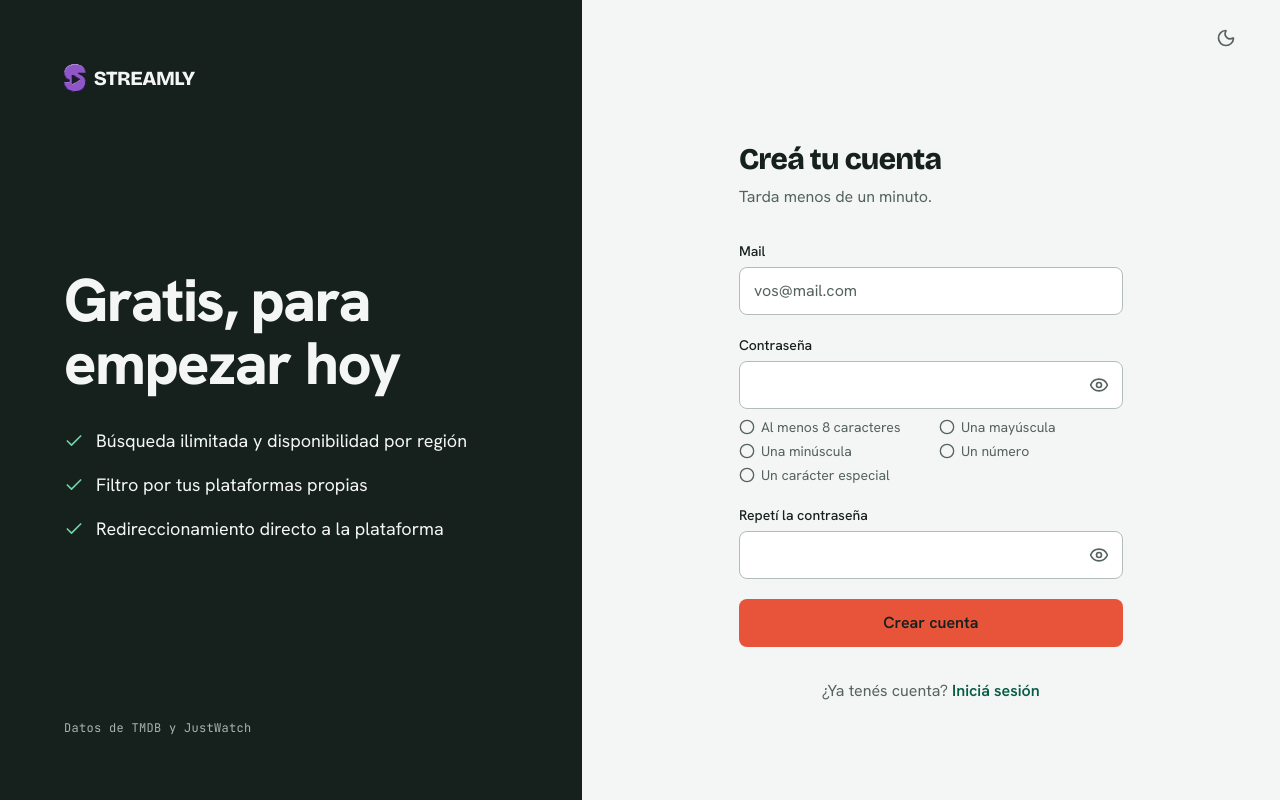
Test case: Registro (E4HU2) › muestra el error de la API si el mail ya está registrado
In the field labelled "Mail": [931, 291] box left=739, top=267, right=1123, bottom=315, type "ana@mail.com"
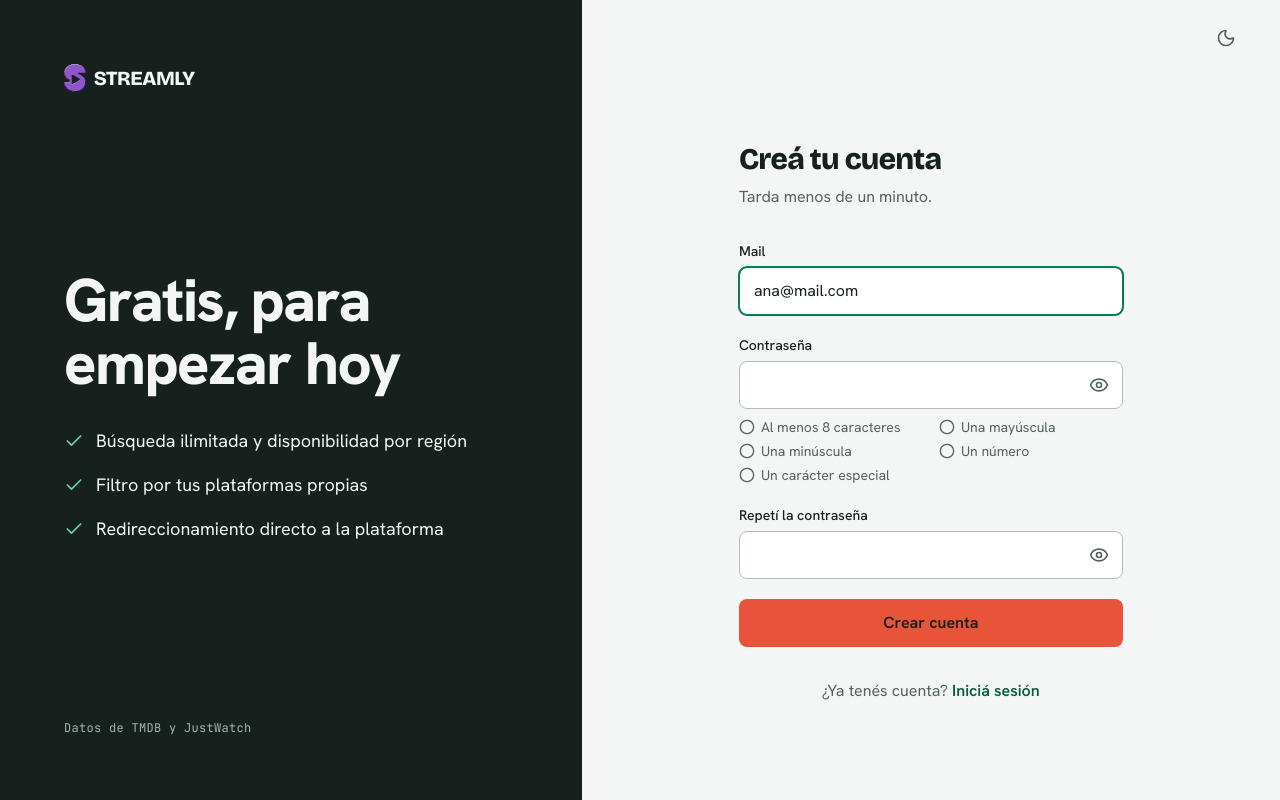
In the password field labelled "Contraseña": [931, 385] box left=739, top=361, right=1123, bottom=409, type "Segura#2026"
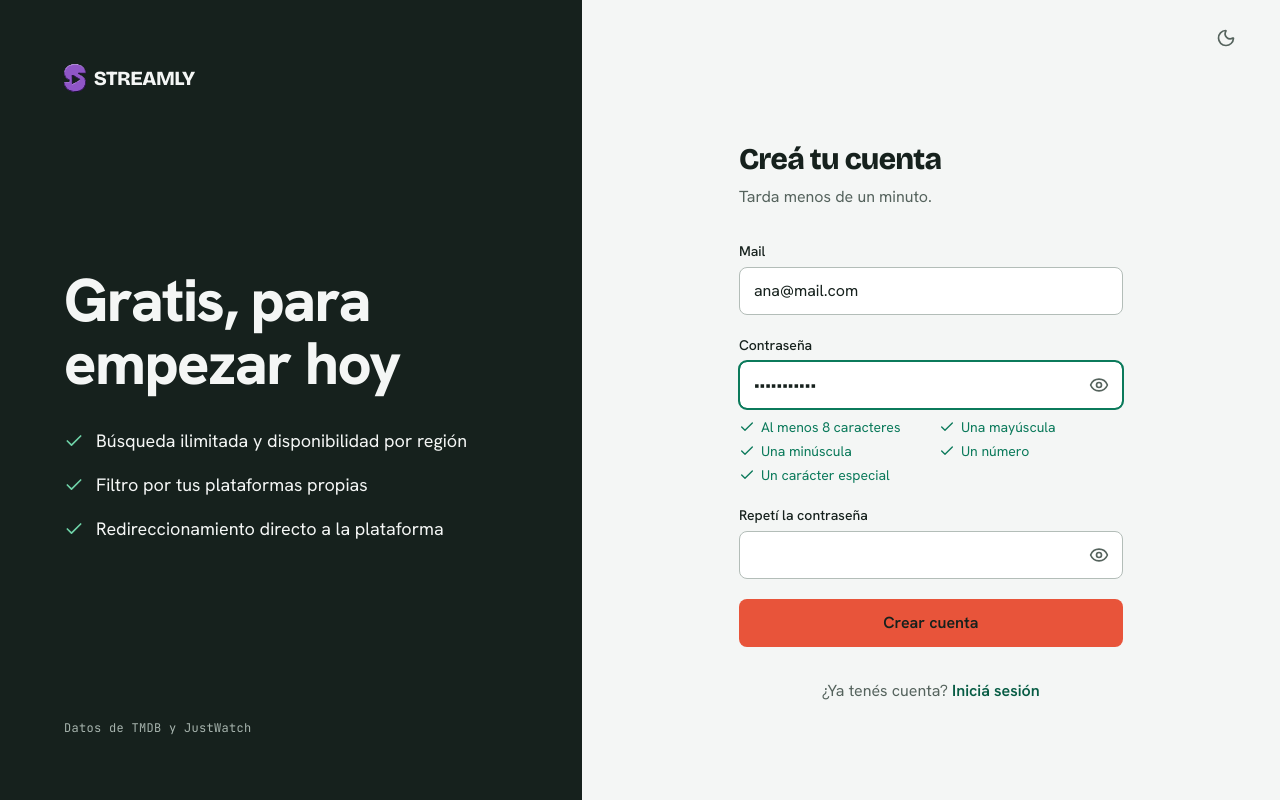
In the password field labelled "Repetí la contraseña": [931, 555] box left=739, top=531, right=1123, bottom=579, type "Segura#2026"
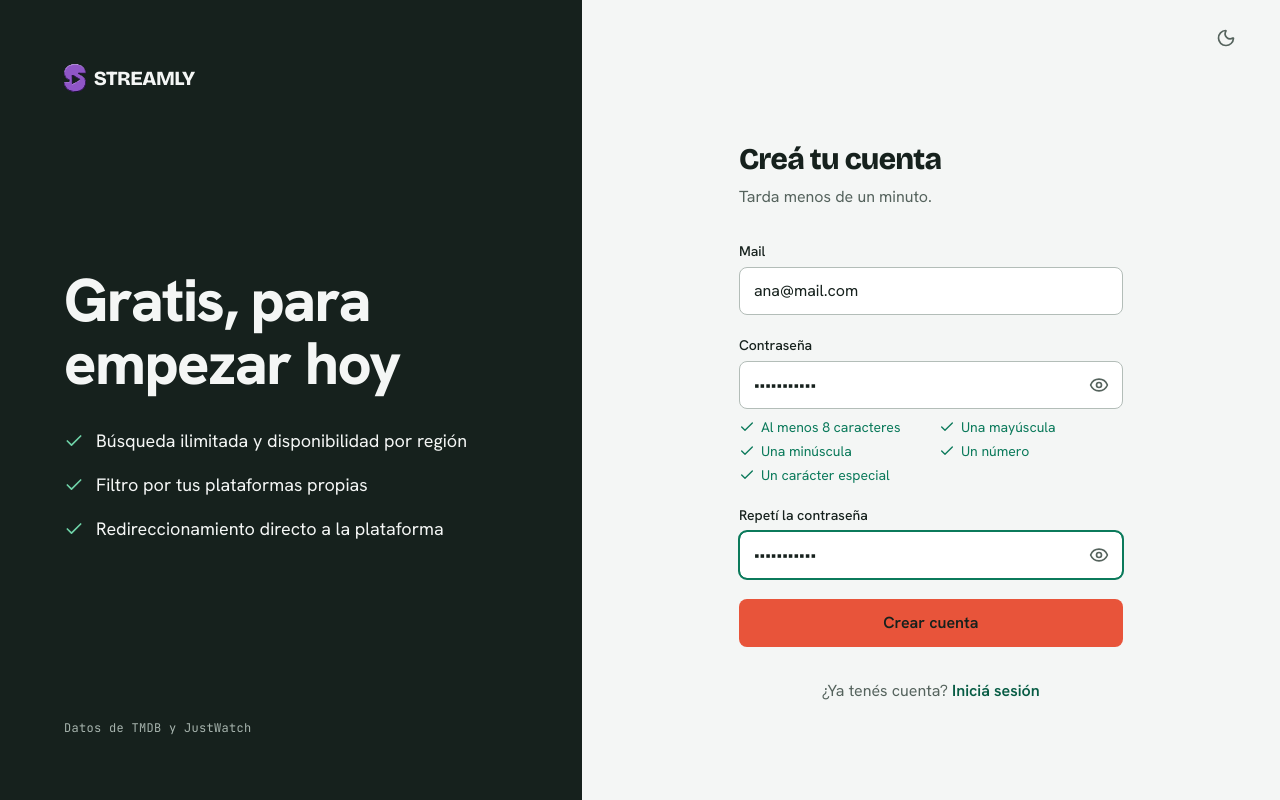
Click the button "Crear cuenta": [931, 623] box left=739, top=599, right=1123, bottom=647
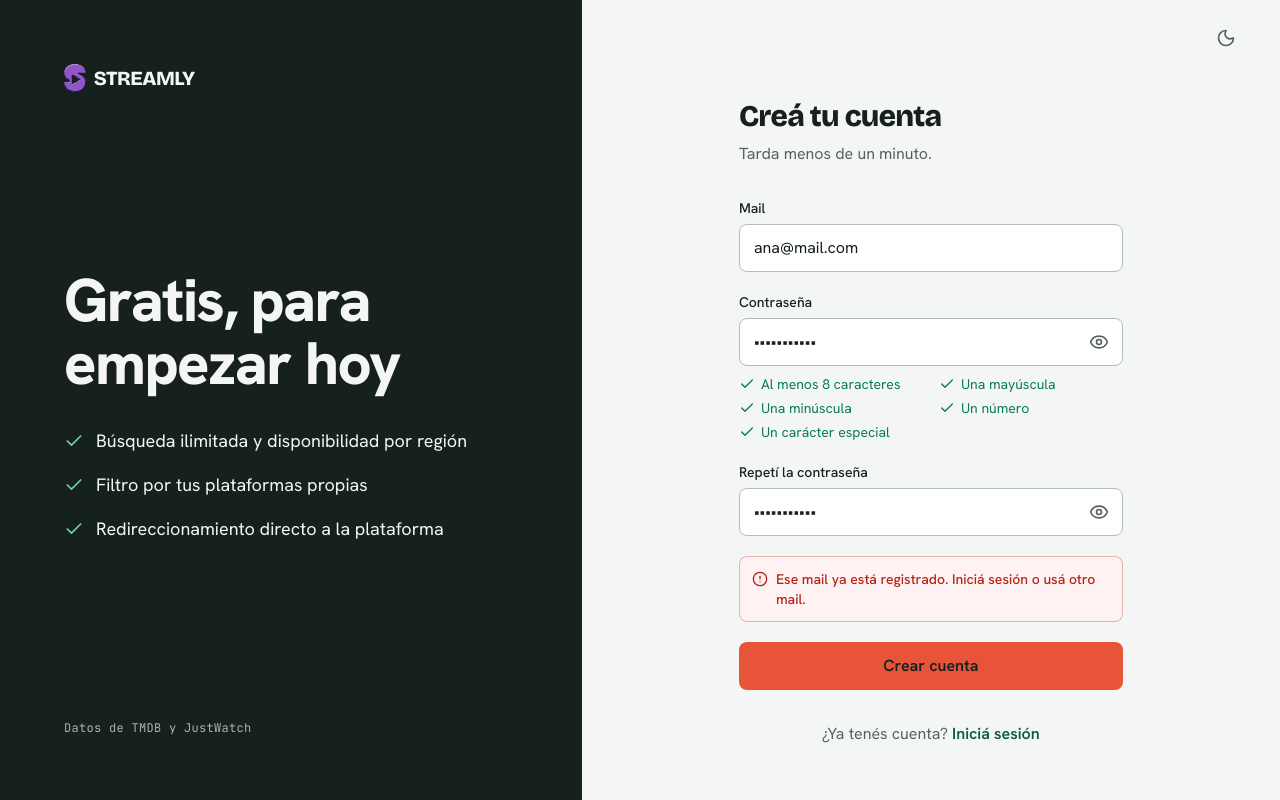
Expected: the button "Crear cuenta" is enabled, left=739, top=642, right=1123, bottom=690
Expected: the text "Ese mail ya está registrado. Iniciá sesión o usá otro mail." is shown, left=776, top=569, right=1110, bottom=609
